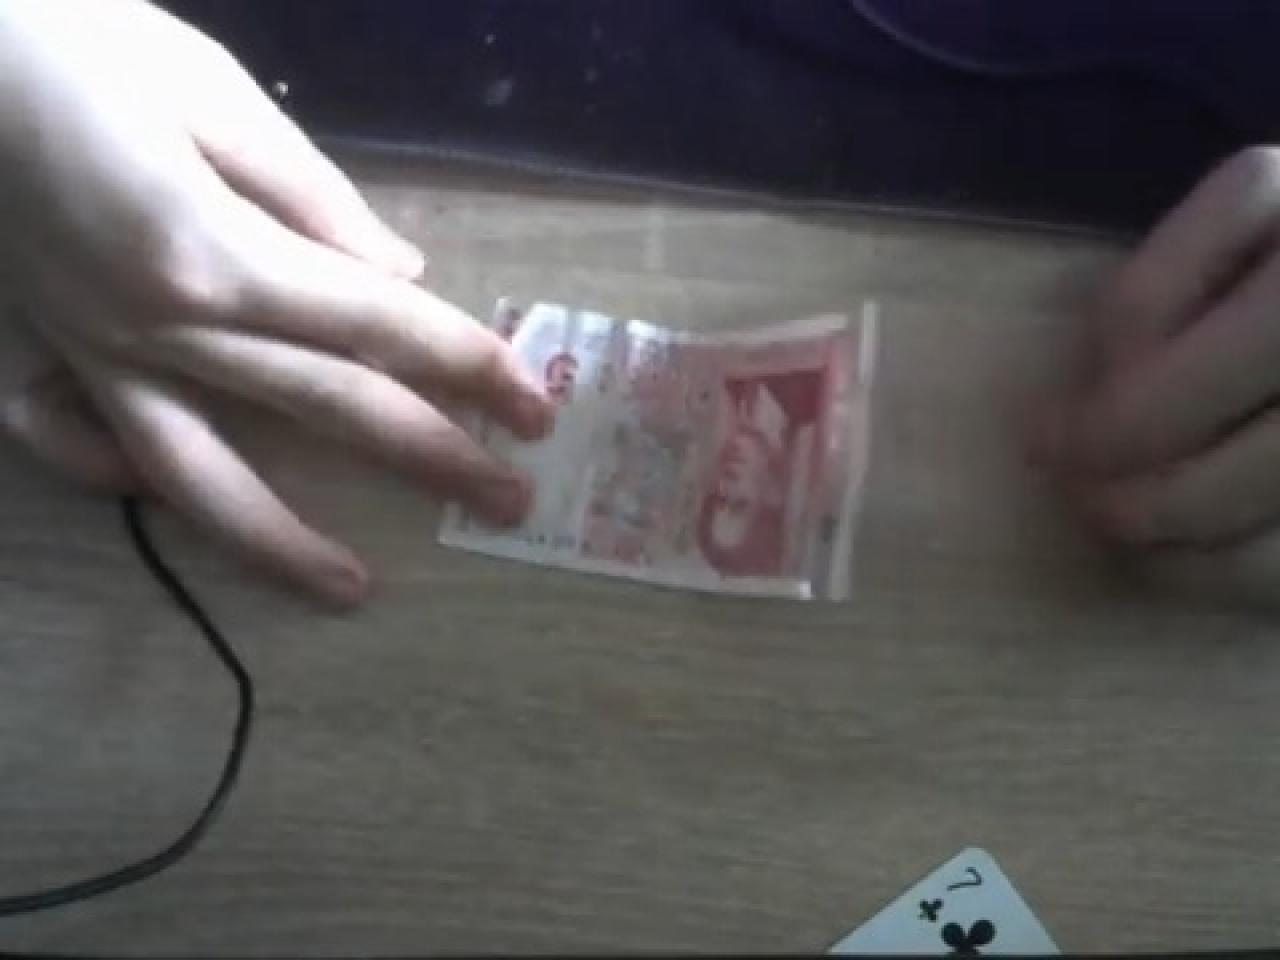5leva: (442, 304, 872, 605)
